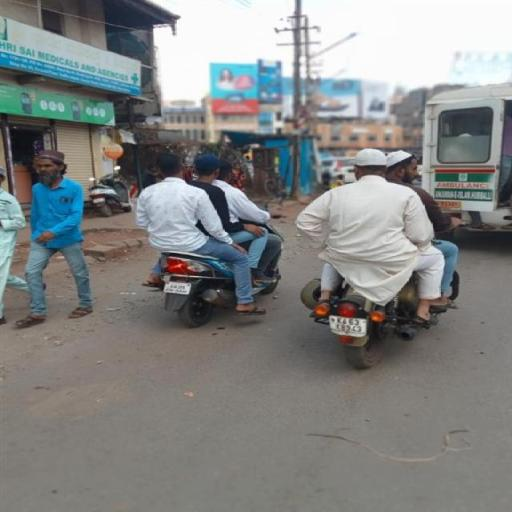tripple riding: (292, 146, 461, 260), (133, 146, 273, 253)
